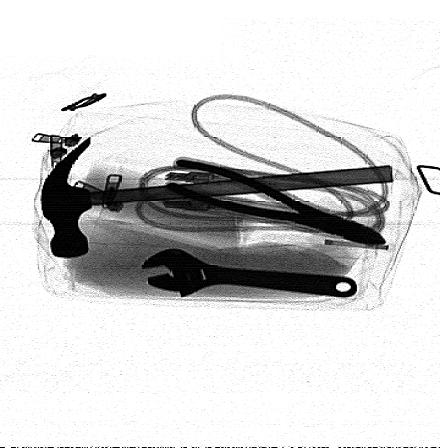Hammer: (41, 134, 394, 256)
Pliers: (159, 153, 391, 244)
Wrench: (139, 246, 359, 298)
